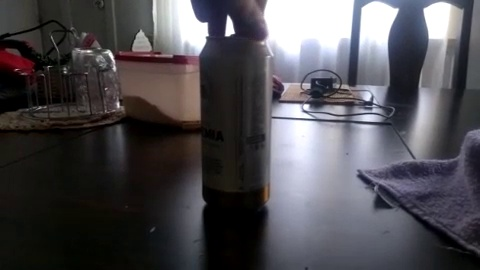bohemia: (182, 28, 289, 223)
